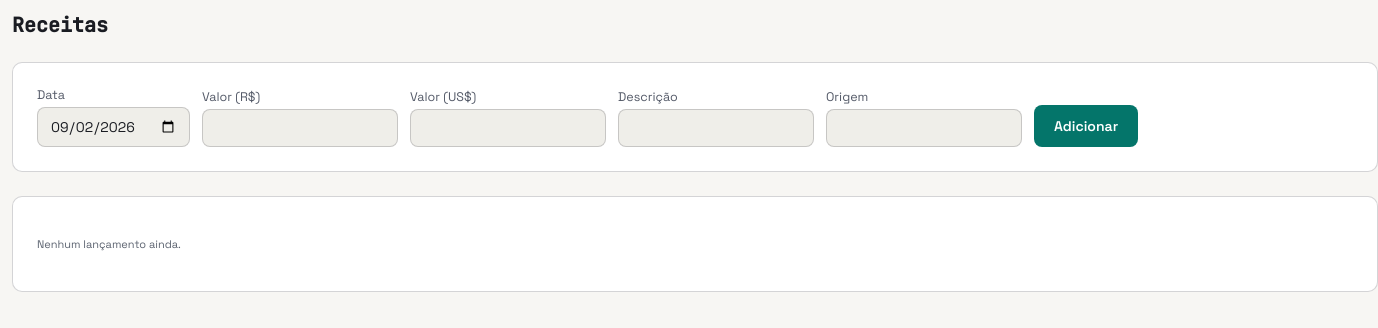
it: ReceitasPage › shows an inline field error when the amount is invalid on blur
This screenshot has width=1378, height=328.
Step 1. Type "abc" into the field labelled "Valor (R$)" → (300,128), box [202,109,398,147]
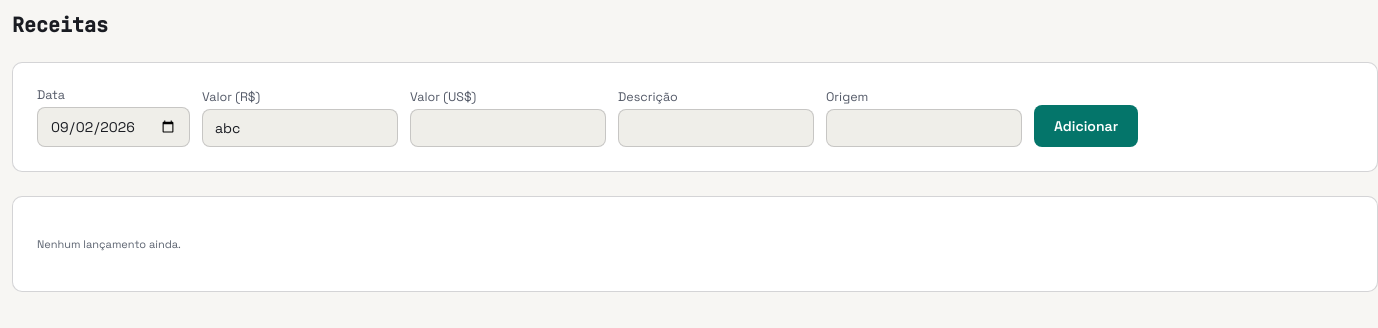
Step 2. Leave the field labelled "Valor (R$)", box [202,109,398,147]
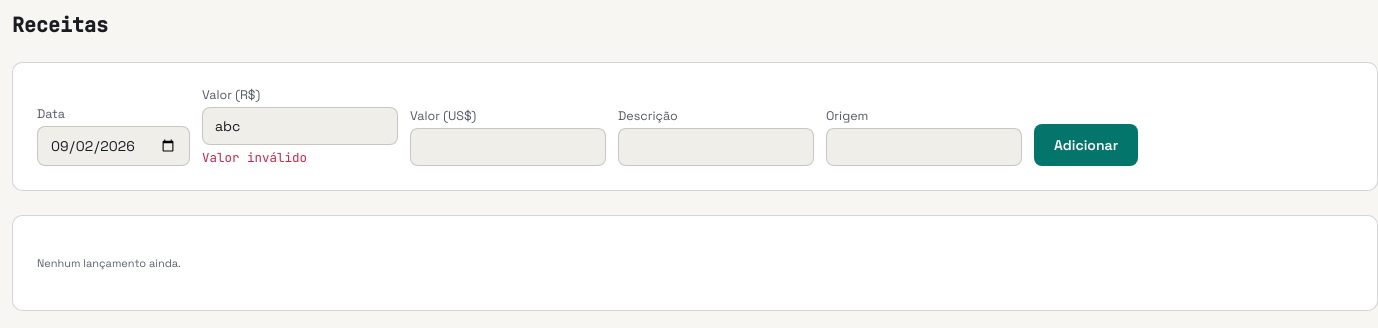
Now the text "Valor inválido" is shown, box [202,149,307,166]
